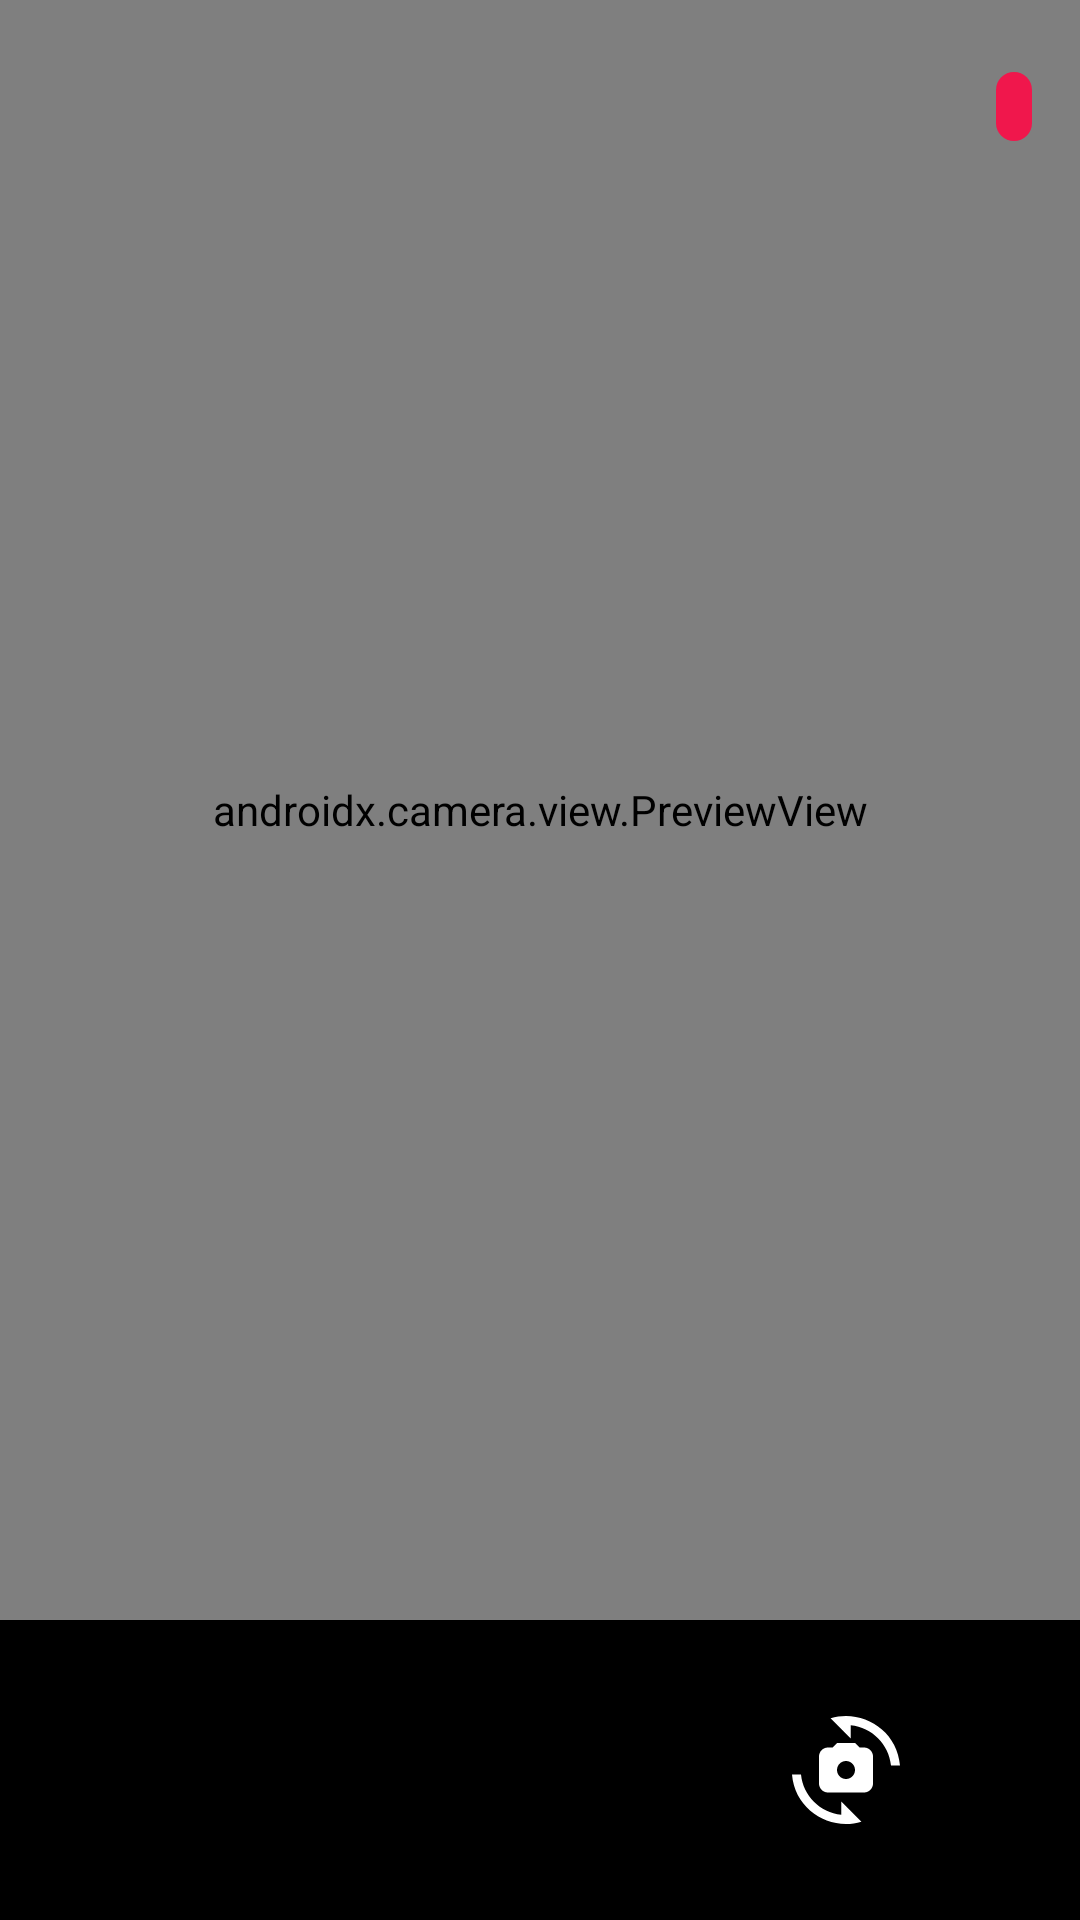

Where icons sit on this 1080px x 1920px app screen, as bbox=[x1, y1, x2, y2]:
camera switch: bbox=[792, 1716, 900, 1824]
